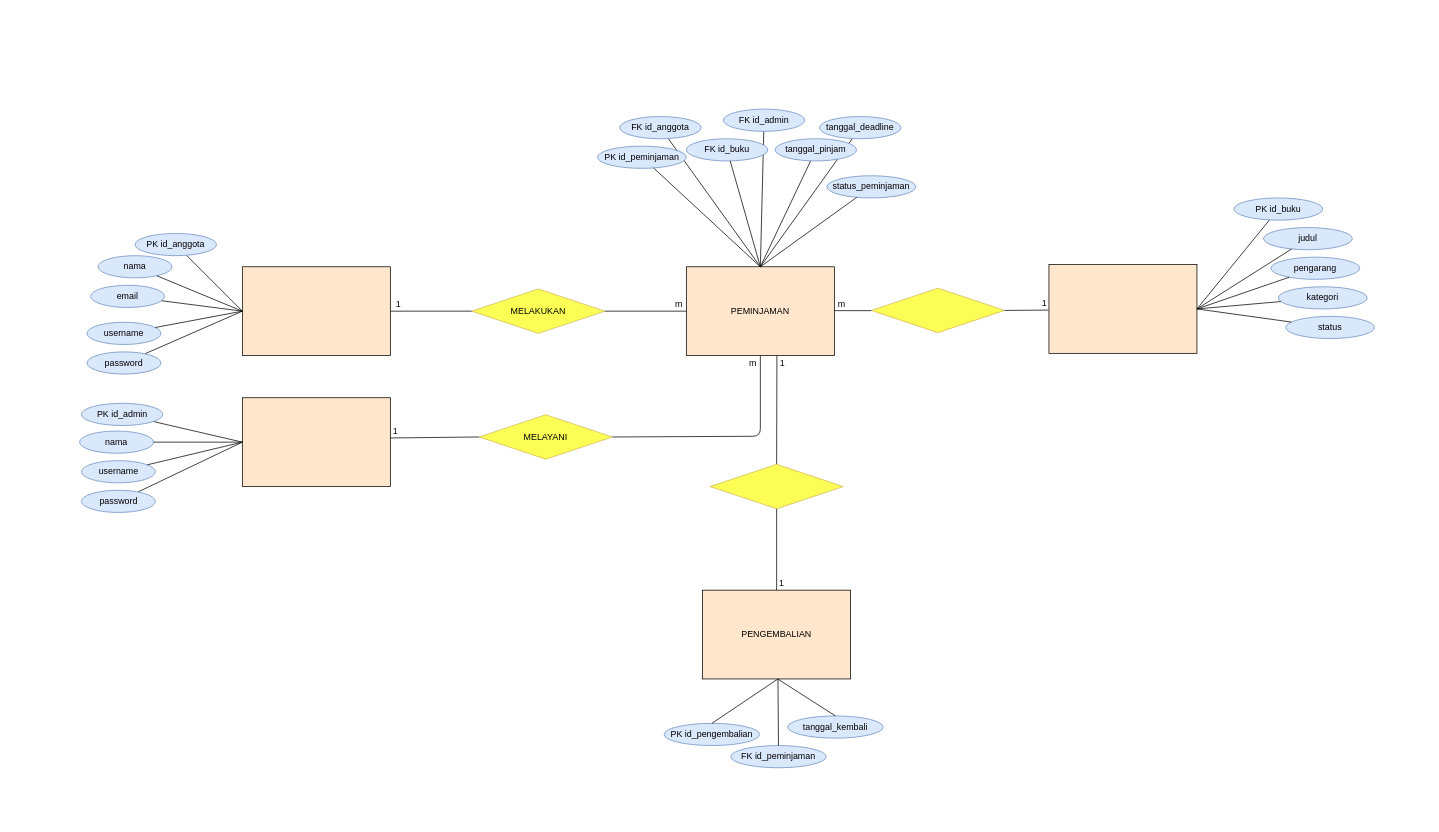
This 1439x832 diagram has some shape labels left out. Here are the shapes that lost their labels. From the top down, the centre of each, then its label:
At [316,311]: "ANGGOTA".
At [938,310]: "MELIBATKAN".
At [1122,308]: "BUKU".
At [316,442]: "ADMIN".
At [776,486]: "DIKEMBALIKAN".
